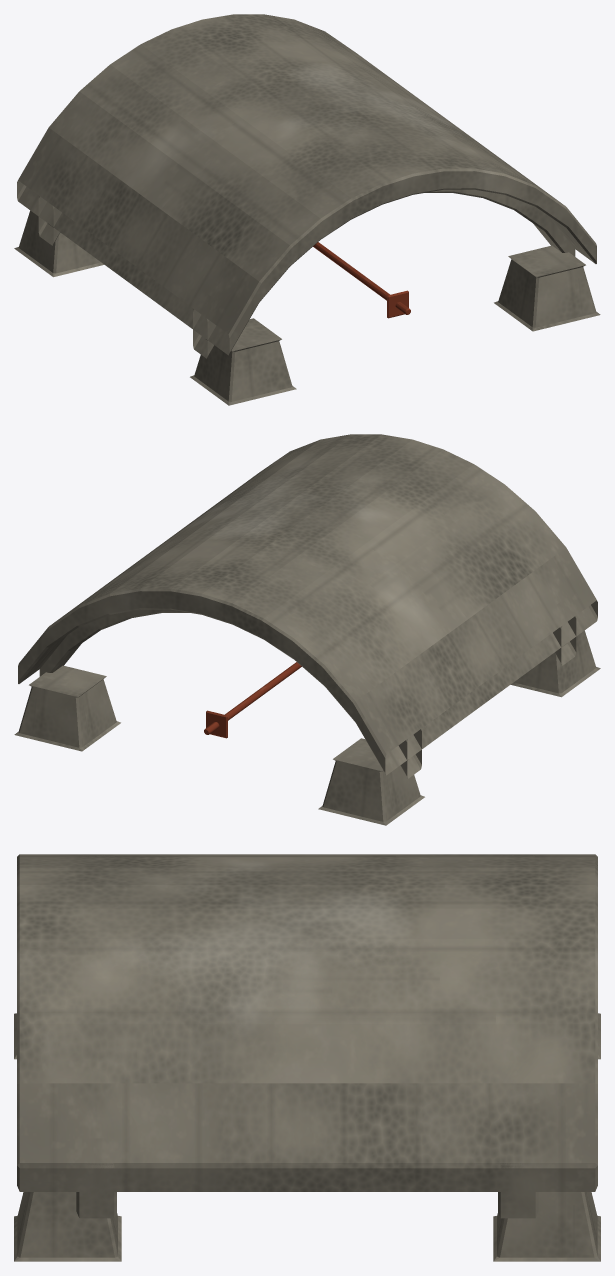
File: WK_ARCH_BAY_VAULT_A_01.glb
3 renders of one model, top to bottom at view 1: azimuth 30°, elevation 25°; view 2: azimuth 150°, elevation 25°; view 3: azimuth 270°, elevation 25°, orthographic. The views are drawn at different scales.
Parts seen in each view (by area): view 1: WK_ARCH_BAY_VAULT_A_01; view 2: WK_ARCH_BAY_VAULT_A_01; view 3: WK_ARCH_BAY_VAULT_A_01.
Boxes of the visible parts, bbox=[...] form: WK_ARCH_BAY_VAULT_A_01: bbox=[14, 14, 600, 405]; WK_ARCH_BAY_VAULT_A_01: bbox=[14, 434, 600, 825]; WK_ARCH_BAY_VAULT_A_01: bbox=[14, 854, 600, 1261].
Bounding box in the file's own units: 4.04 × 1.92 × 4.04.
2 materials, 2 textured.
